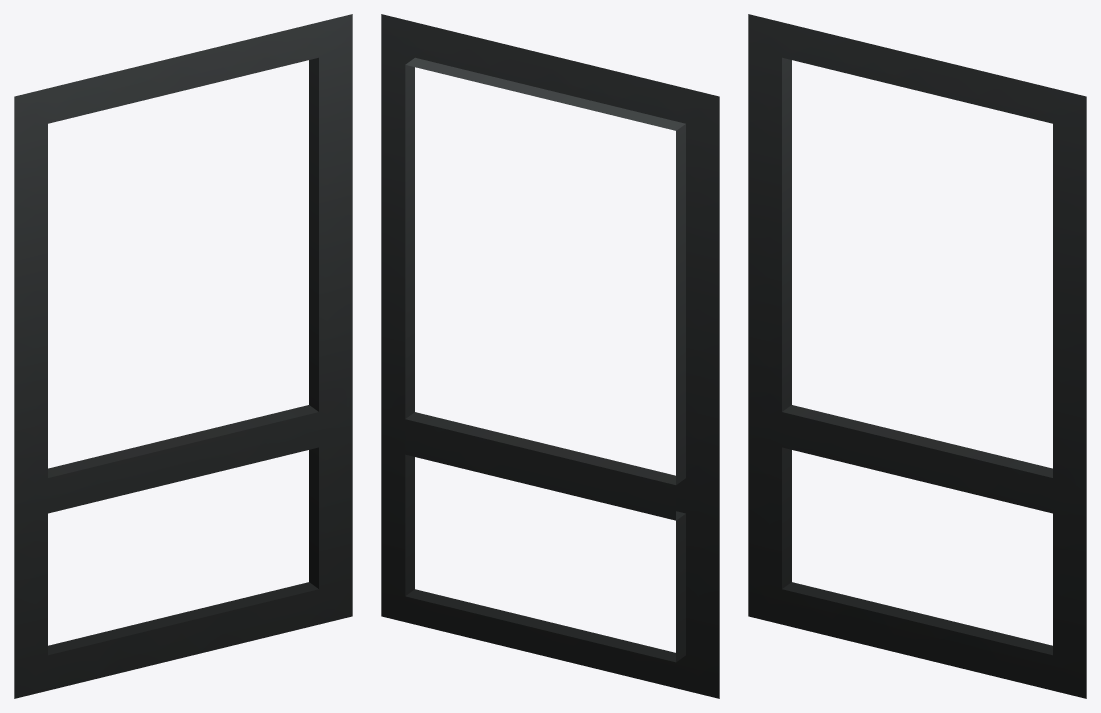
File: Wall_3m_A_Window_A_Frame_D.fbx
The picture shows the model from 3 angles, left to right: view 1: azimuth 30°, elevation 25°; view 2: azimuth 150°, elevation 25°; view 3: azimuth 330°, elevation 25°; orthographic projection.
Parts seen in each view (by area): view 1: Wall_3m_A_Window_A_Frame_D; view 2: Wall_3m_A_Window_A_Frame_D; view 3: Wall_3m_A_Window_A_Frame_D.
Part boxes in pixels (<box>): Wall_3m_A_Window_A_Frame_D: <box>14,14,352,698</box>; Wall_3m_A_Window_A_Frame_D: <box>381,14,719,698</box>; Wall_3m_A_Window_A_Frame_D: <box>748,14,1086,698</box>.
Size of the model in its own units: 100 by 170 by 5.
